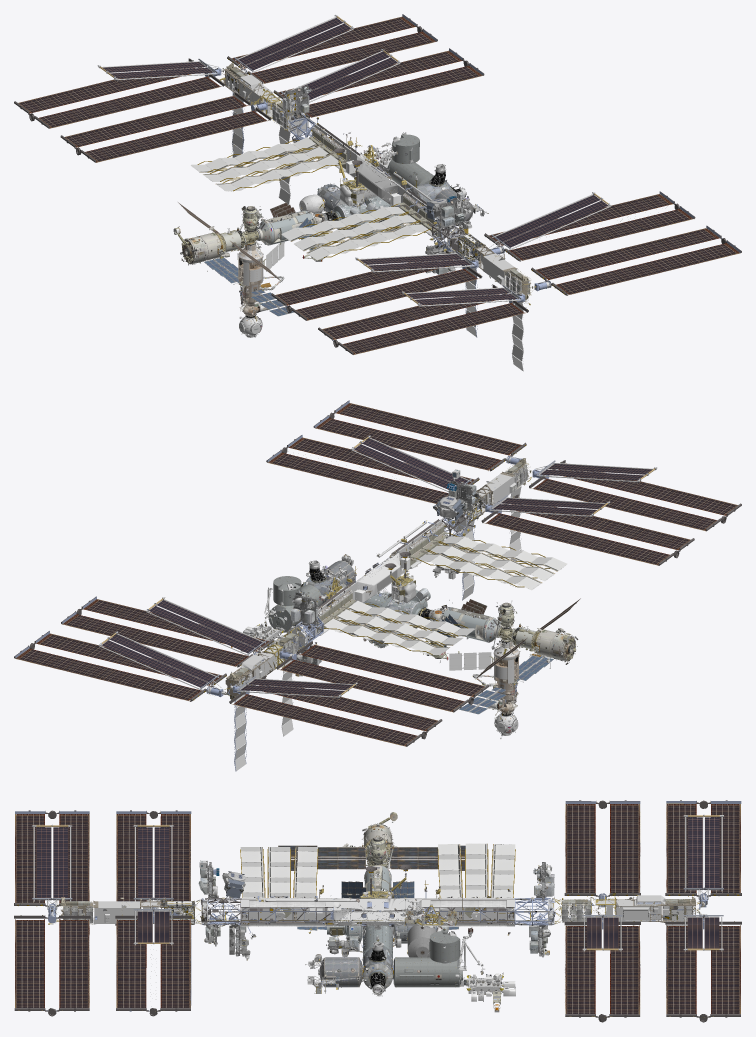
The model's file is iss-igoal-low.glb.
3 renders of one model, top to bottom at view 1: azimuth 30°, elevation 25°; view 2: azimuth 150°, elevation 25°; view 3: azimuth 270°, elevation 25°, orthographic. The views are drawn at different scales.
Visible parts, largest first — view 1: IGOAL_SSREF; view 2: IGOAL_SSREF; view 3: IGOAL_SSREF.
Part boxes in pixels (box(x1,y1,x2,y2)): IGOAL_SSREF: box(14, 14, 741, 371); IGOAL_SSREF: box(14, 400, 741, 771); IGOAL_SSREF: box(14, 800, 741, 1022).
Bounding box in the file's own units: 73.42 × 30.62 × 108.
44 materials, 41 textured.
